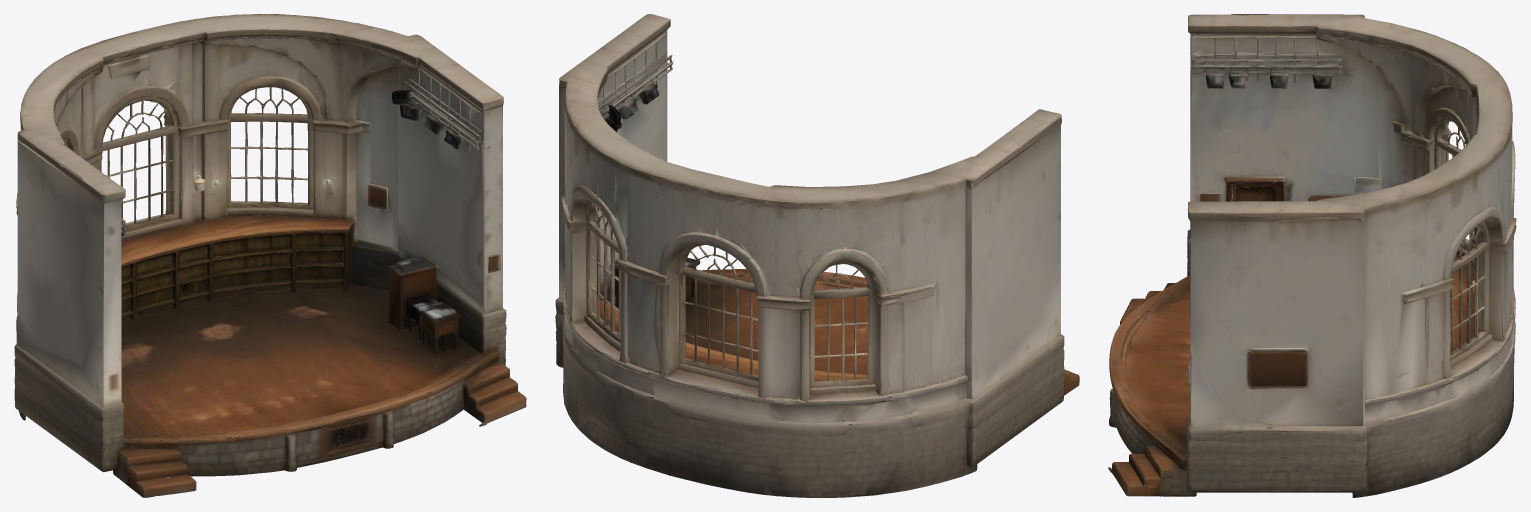
The model's file is env-archive-shell.glb.
3 views of the same model, side by side, from view 1: azimuth 30°, elevation 25°; view 2: azimuth 150°, elevation 25°; view 3: azimuth 270°, elevation 25° (orthographic). The views are drawn at different scales.
Parts seen in each view (by area): view 1: env-archive-shell; view 2: env-archive-shell; view 3: env-archive-shell.
Part boxes in pixels (box(x1,y1,x2,y2)): env-archive-shell: box(14, 14, 526, 497); env-archive-shell: box(555, 14, 1079, 497); env-archive-shell: box(1108, 14, 1516, 497).
Bounding box in the file's own units: 7.73 × 5.22 × 6.67.
1 material, 1 textured.
